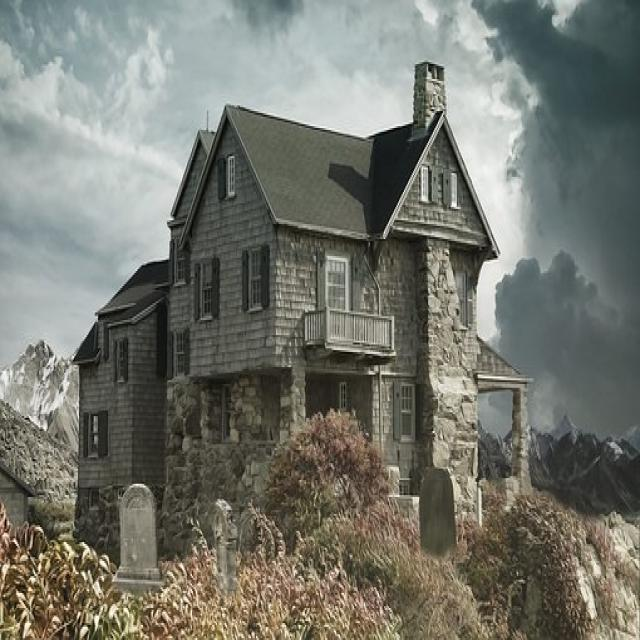building: (66, 59, 528, 568)
